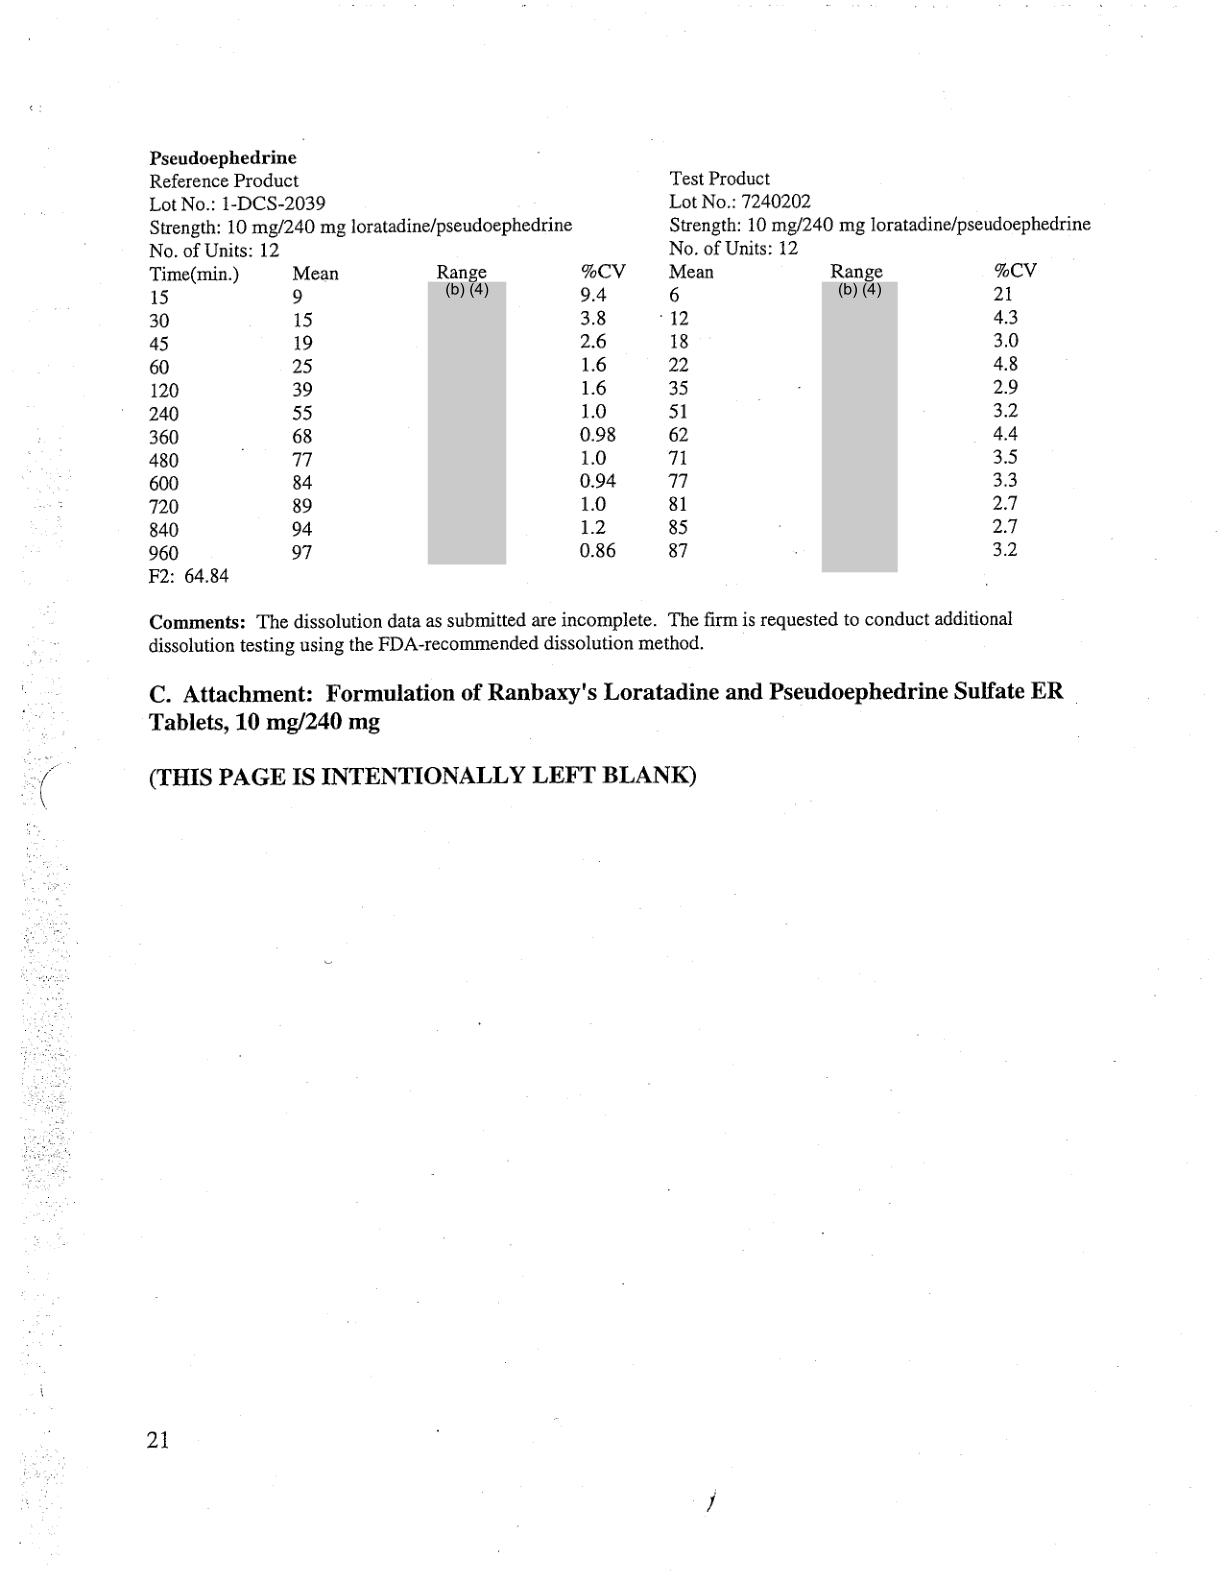nolines: (146, 172, 1092, 579)
